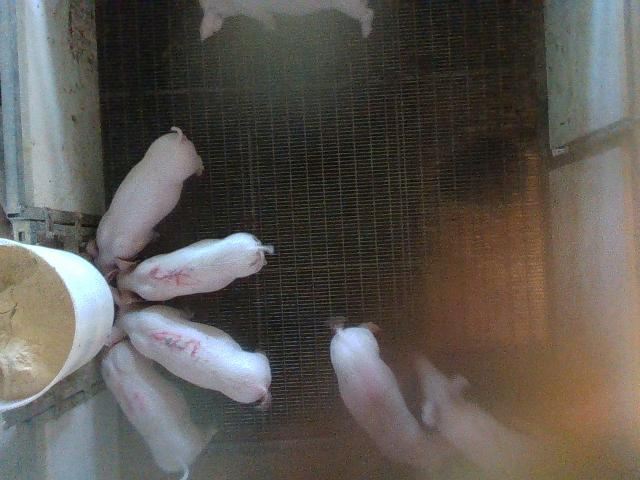pig-1: (330, 326, 448, 469)
pig-3: (111, 305, 271, 403)
pig-4: (102, 340, 205, 478)
pig-5: (112, 232, 274, 305)
